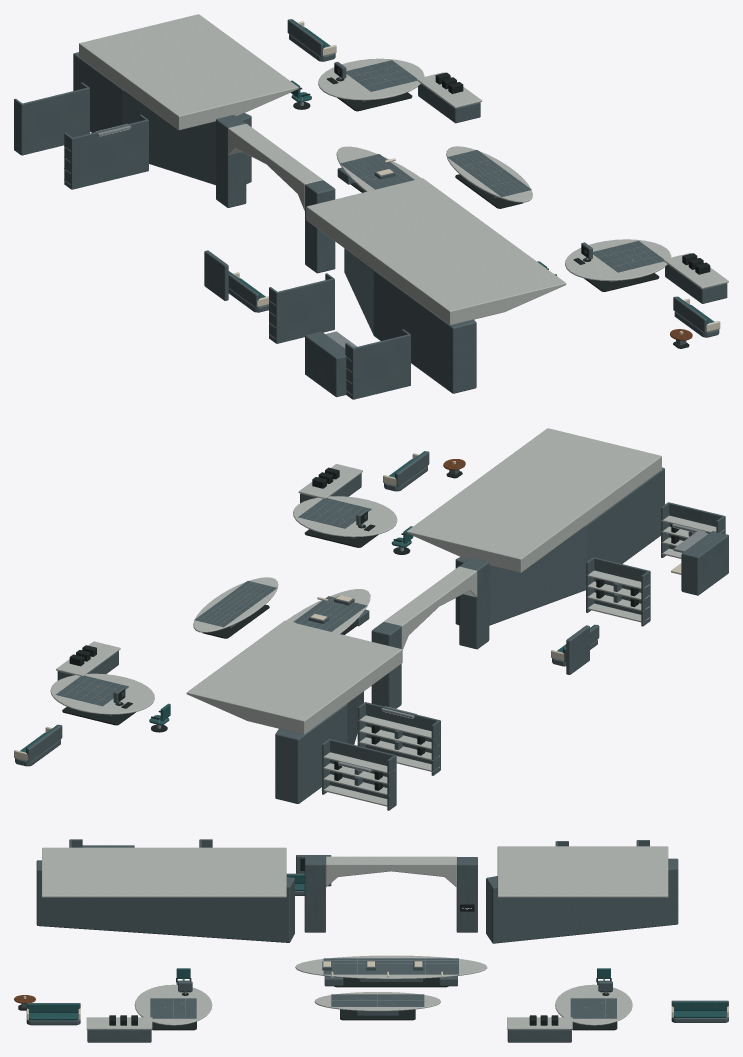
The model's file is D18_directory_02.glb.
3 views of the same model, one above another, from view 1: azimuth 30°, elevation 25°; view 2: azimuth 150°, elevation 25°; view 3: azimuth 270°, elevation 25° (orthographic). The views are drawn at different scales.
Parts seen in each view (by area): view 1: A_AftArchiveCoffer, A_ForeArchiveCoffer, A_AftArchiveBlade, A_ForeArchiveBlade, A_ChartArchive1_back, A_ChartArchive0_back, A_ChartArchive2_back, A_ChartArchive3_back, A_ArrivalVault, A_ArrivalLeftJamb, A_ChartCare_carcass, A_OutwardChart0_top (+13 smaller); view 2: A_AftArchiveCoffer, A_ForeArchiveCoffer, A_AftArchiveBlade, A_ForeArchiveBlade, A_ArrivalVault, A_ChartCare_carcass, A_ArrivalRightJamb, A_OutwardChart0_top, A_OutwardChart1_top, A_ArrivalLeftJamb, A_ComparisonInset_field, A_ChartArchive1_back (+11 smaller); view 3: A_AftArchiveCoffer, A_AftArchiveBlade, A_ForeArchiveCoffer, A_ForeArchiveBlade, A_ArrivalVault, A_MainRouteChart_field, A_ArrivalRightJamb, A_ChartNave_top, A_OutwardChart1_top, A_ArrivalLeftJamb, A_OutwardChart0_top, A_ComparisonInset_field (+13 smaller).
Boxes of the visible parts, <box> form: A_AftArchiveCoffer: <box>306,178,566,325</box>; A_ForeArchiveCoffer: <box>79,14,298,130</box>; A_AftArchiveBlade: <box>344,248,476,393</box>; A_ForeArchiveBlade: <box>73,52,251,185</box>; A_ChartArchive1_back: <box>71,119,148,189</box>; A_ChartArchive0_back: <box>20,87,89,155</box>; A_ChartArchive2_back: <box>275,278,334,343</box>; A_ChartArchive3_back: <box>352,334,410,399</box>; A_ArrivalVault: <box>228,123,322,210</box>; A_ArrivalLeftJamb: <box>216,115,246,207</box>; A_ChartCare_carcass: <box>305,331,346,397</box>; A_OutwardChart0_top: <box>318,58,424,100</box>; A_AftArchiveCoffer: <box>406,428,661,572</box>; A_ForeArchiveCoffer: <box>186,620,402,734</box>; A_AftArchiveBlade: <box>455,467,664,625</box>; A_ForeArchiveBlade: <box>275,691,363,803</box>; A_ArrivalVault: <box>384,566,477,649</box>; A_ChartCare_carcass: <box>681,531,728,595</box>; A_ArrivalRightJamb: <box>459,558,489,649</box>; A_OutwardChart0_top: <box>50,673,154,714</box>; A_OutwardChart1_top: <box>293,496,397,537</box>; A_ArrivalLeftJamb: <box>371,622,401,708</box>; A_ComparisonInset_field: <box>194,581,276,627</box>; A_ChartArchive1_back: <box>365,702,440,770</box>; A_AftArchiveCoffer: <box>42,847,286,897</box>; A_AftArchiveBlade: <box>36,860,294,942</box>; A_ForeArchiveCoffer: <box>497,846,668,897</box>; A_ForeArchiveBlade: <box>486,858,678,943</box>; A_ArrivalVault: <box>325,856,456,887</box>; A_MainRouteChart_field: <box>323,958,458,974</box>; A_ArrivalRightJamb: <box>304,857,325,932</box>; A_ChartNave_top: <box>295,955,487,979</box>; A_OutwardChart1_top: <box>134,984,212,1025</box>; A_ArrivalLeftJamb: <box>456,857,477,932</box>; A_OutwardChart0_top: <box>555,984,632,1025</box>; A_ComparisonInset_field: <box>331,994,424,1006</box>.
Bounding box in the file's own units: 23.1 × 4.5 × 42.35.
Materials: 9 (9 with a texture image).
